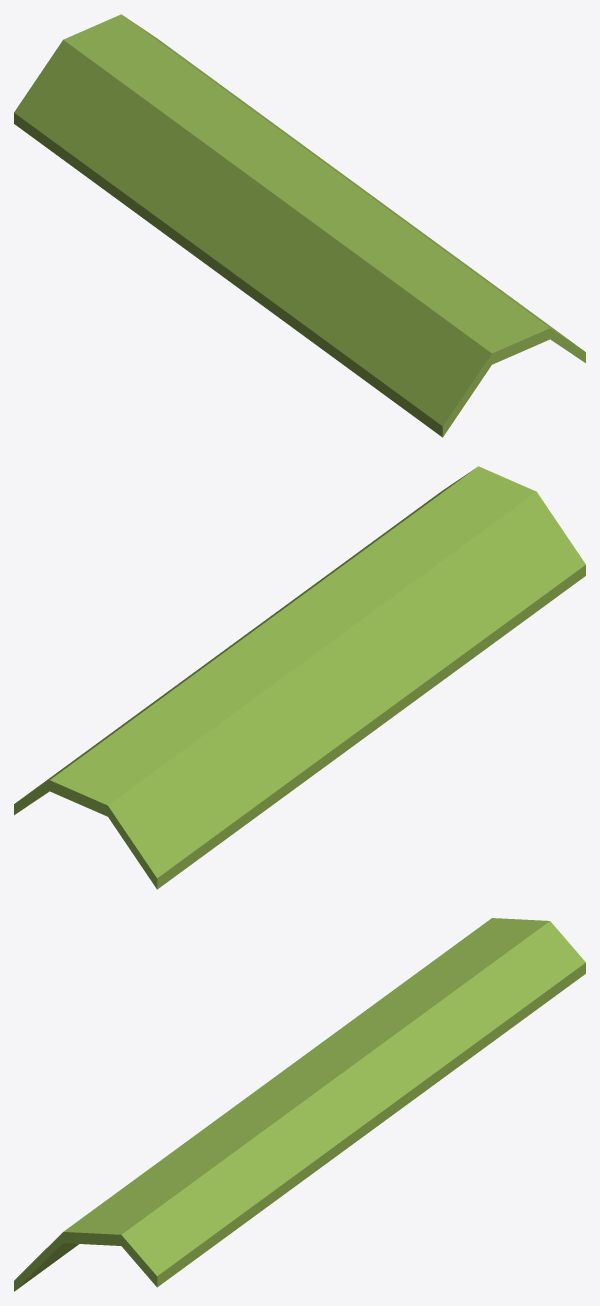
3 views of the same model, one above another, from view 1: azimuth 30°, elevation 25°; view 2: azimuth 150°, elevation 25°; view 3: azimuth 330°, elevation 25° (orthographic).
Visible parts, largest first — view 1: 支流1_右岸折纸.001; view 2: 支流1_右岸折纸.001; view 3: 支流1_右岸折纸.001.
Boxes of the visible parts, x1=… form: 支流1_右岸折纸.001: x1=14, y1=14, x2=585, y2=437; 支流1_右岸折纸.001: x1=14, y1=466, x2=585, y2=889; 支流1_右岸折纸.001: x1=14, y1=918, x2=585, y2=1291.
Size of the model in its own units: 0.16 by 0.089 by 0.83.
